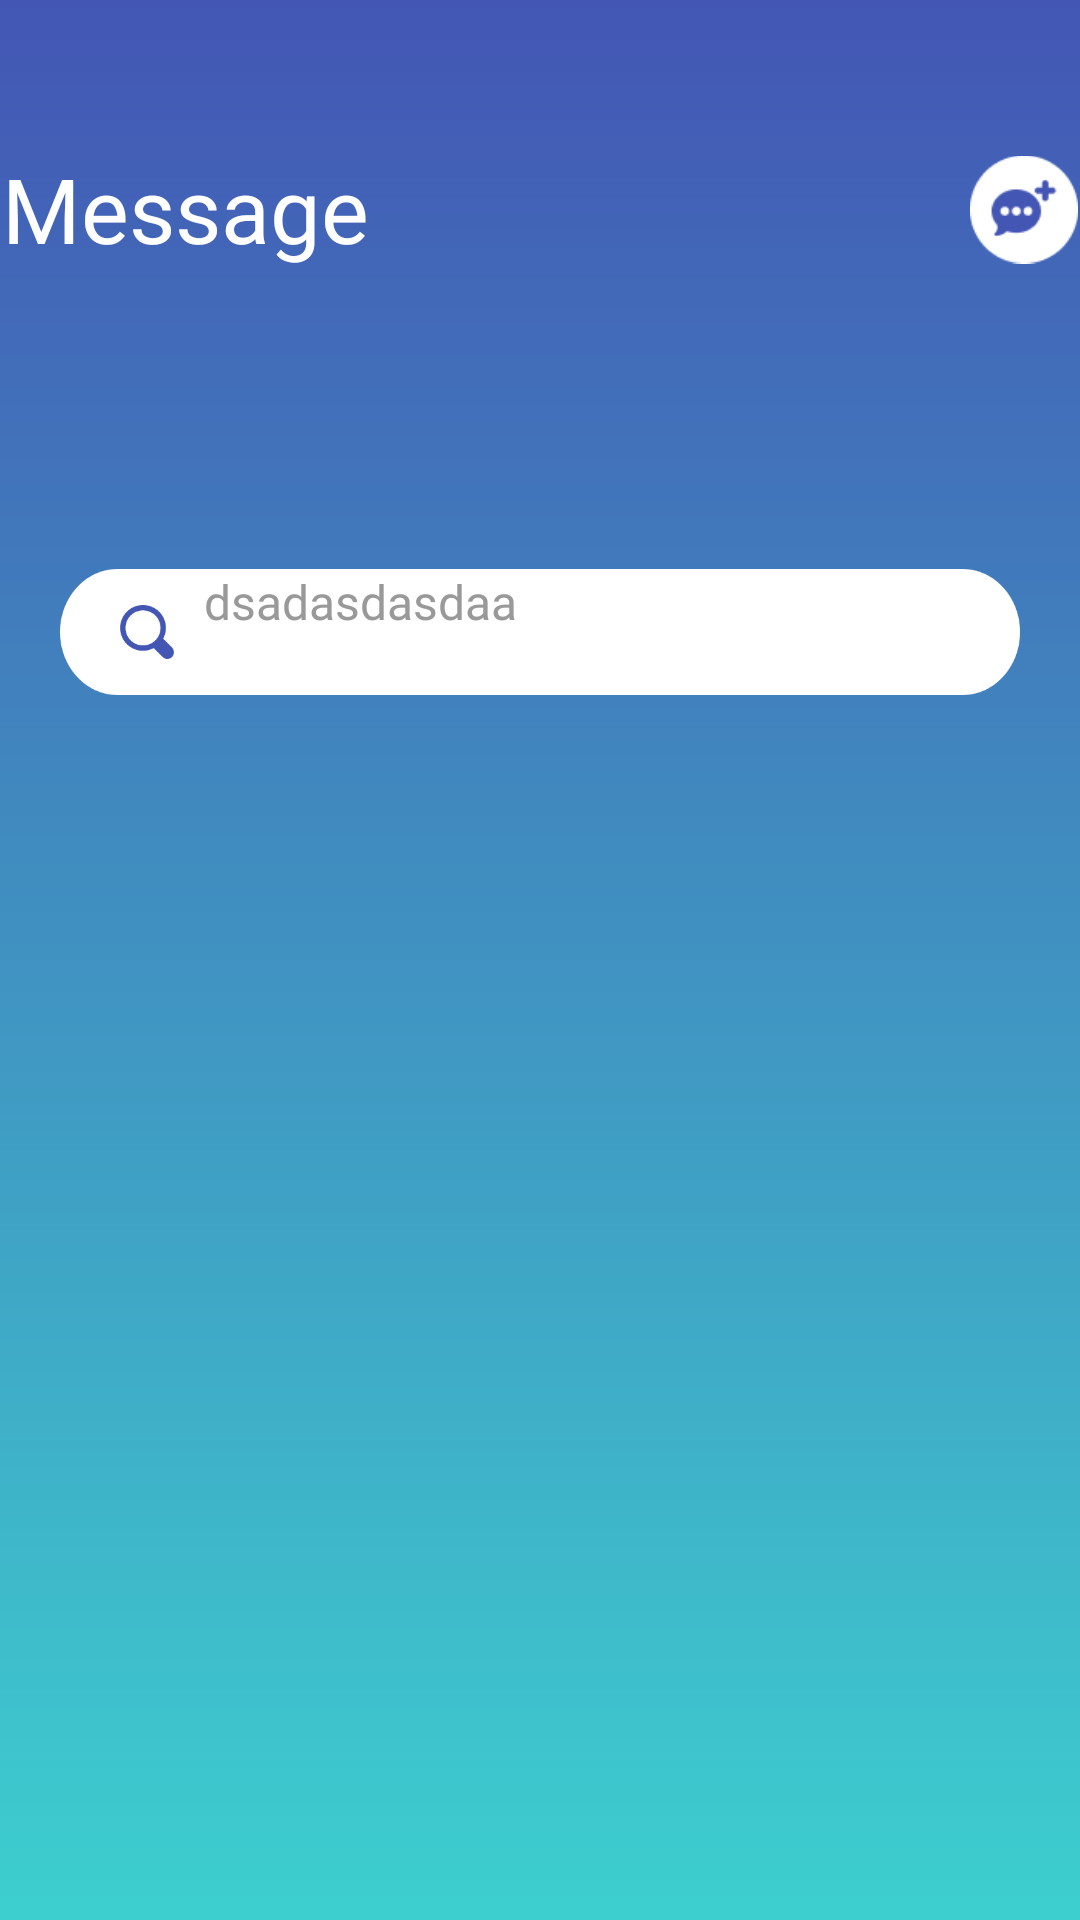

Locate icon controls on the screen. Image size 1080×1920, boxes as (x1, y1, x2, y2).
create message: (970, 156, 1078, 264)
search: (120, 605, 174, 659)
